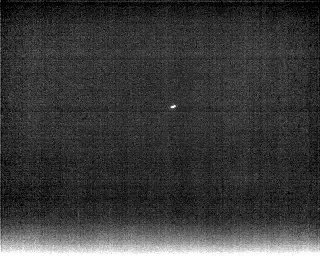BIRD: (169, 102, 178, 110)
